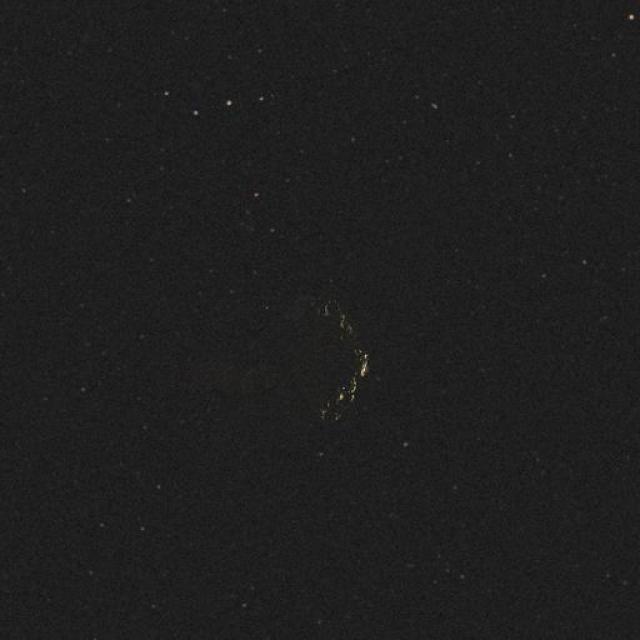soho: (136, 262, 382, 465)
